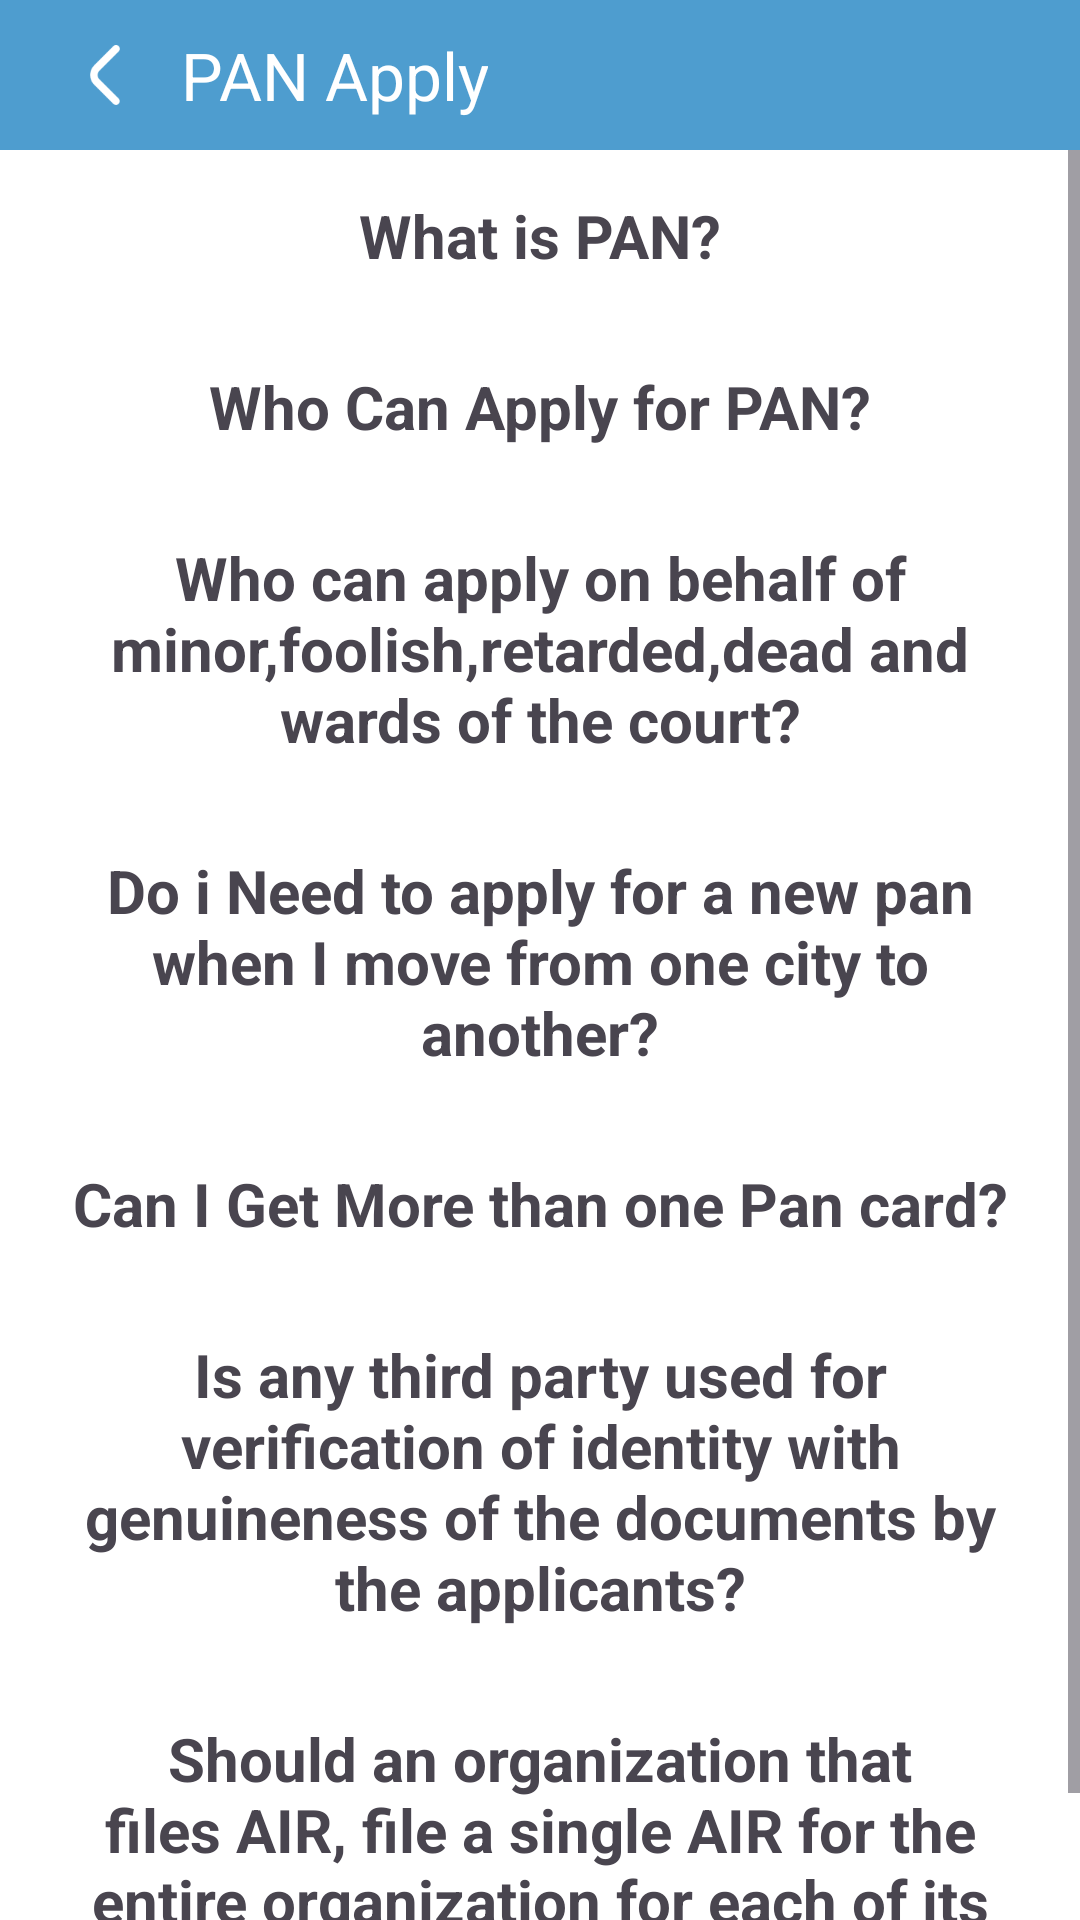

Icons on this 1080px×1920px Android screen, each with the point to tap as (x=x, y=y):
back: (x=105, y=75)
